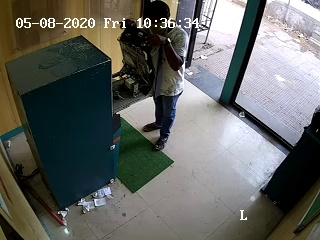open: (184, 2, 274, 130)
